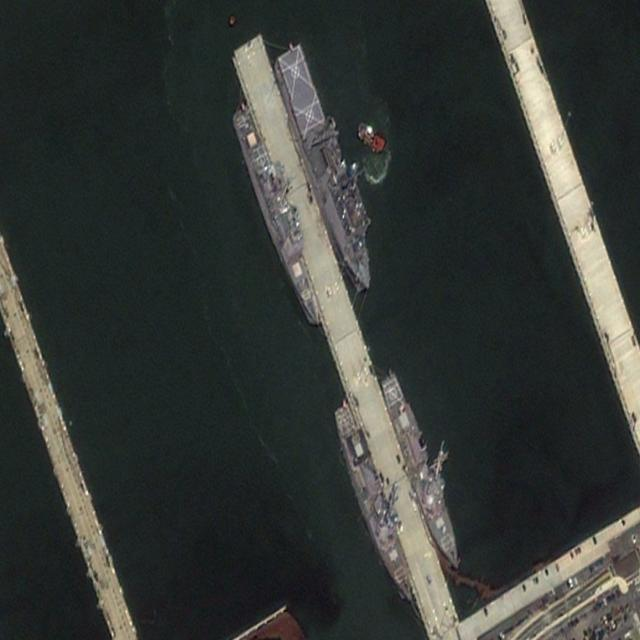Cruiser: (229, 93, 334, 333)
Destroyer: (327, 394, 423, 612), (378, 364, 472, 577)
Landing: (270, 35, 391, 300)
